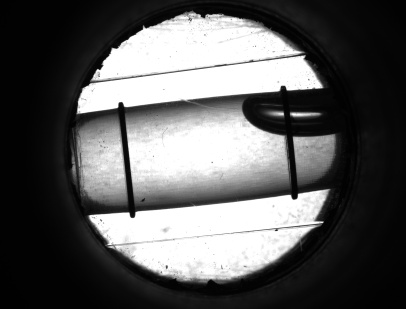line: (115, 121, 139, 198), (279, 142, 304, 181)
